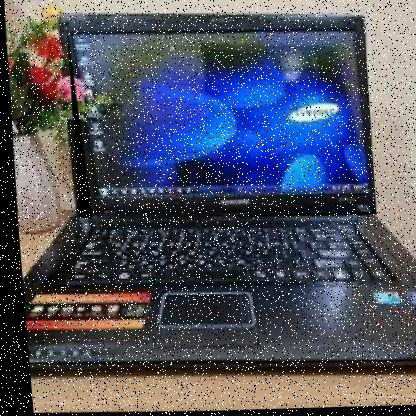Normal: (62, 13, 377, 224)
